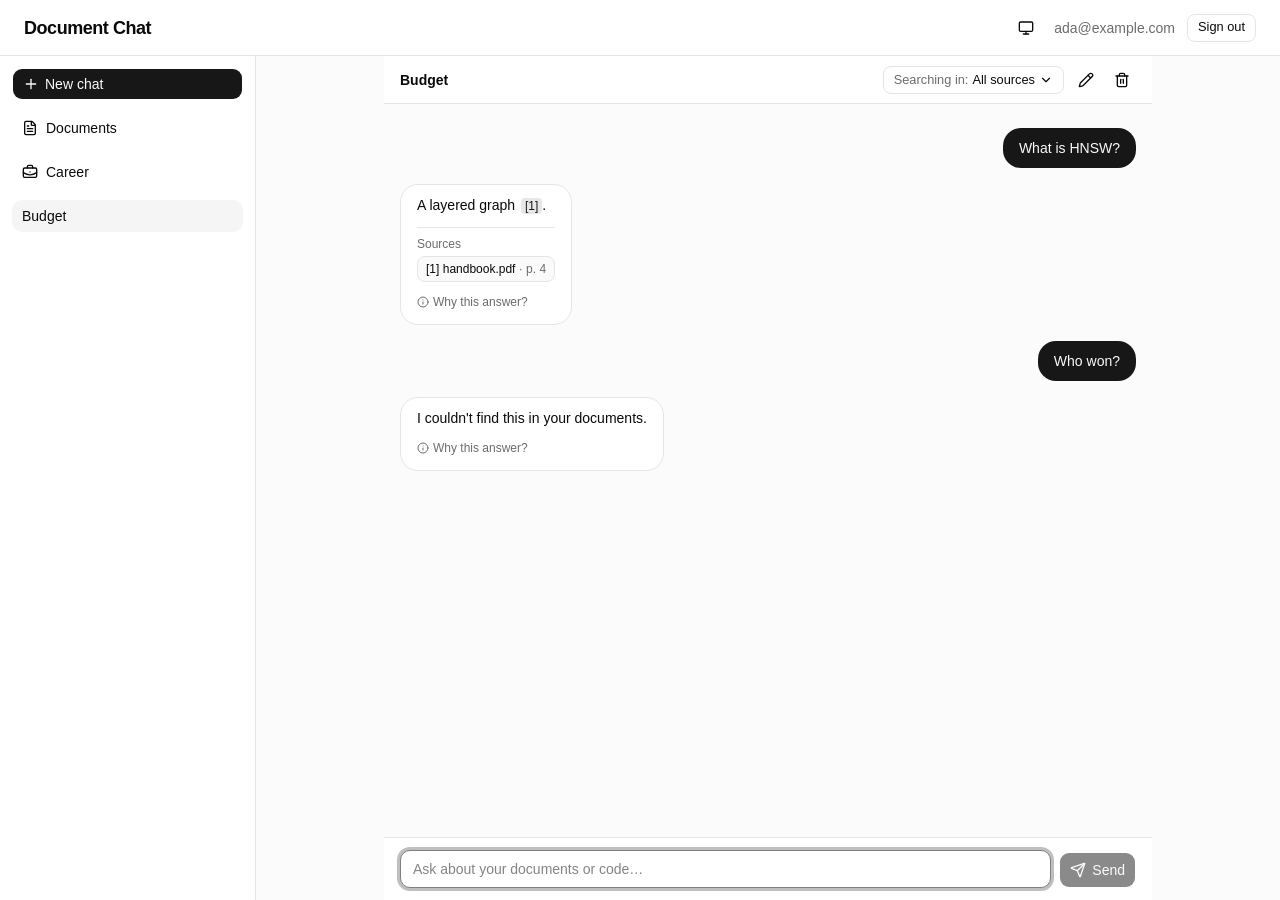
the "Why this answer?" panel in the chat › explains the answer it was opened from, with the question that led to it
Click the button "Why this answer?" below "I couldn't find this in your documents.". click: click(472, 448)
box: [417,436,528,460]
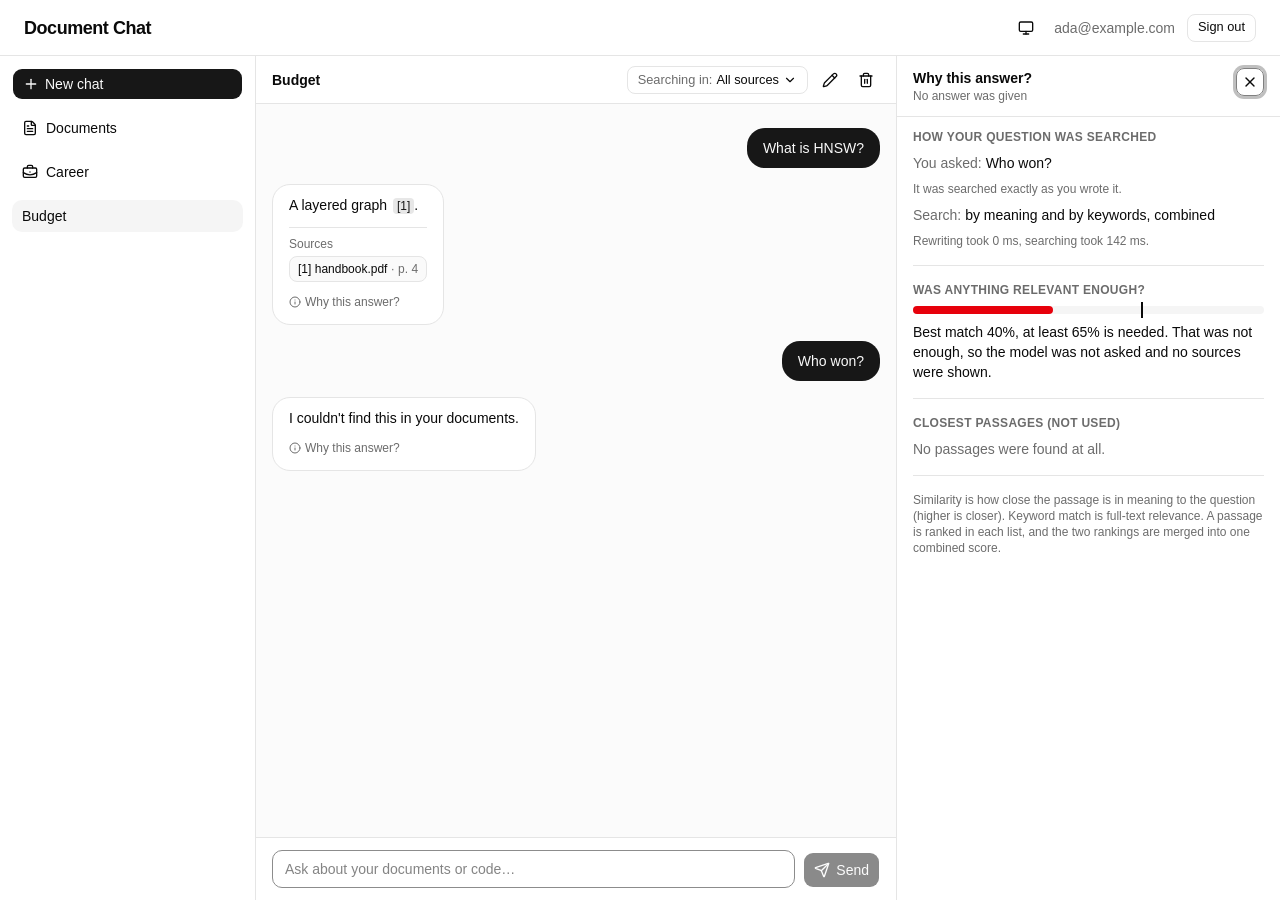
Now the text "Who won?" is shown, box [986,155,1052,171]
Now the text "the model was not asked" is shown, box [913,324,1252,380]
